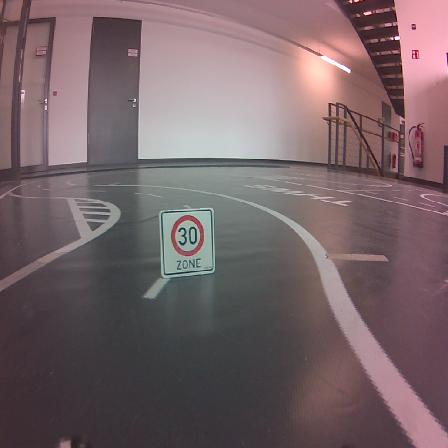30_ZONE_BEGIN: (160, 208, 217, 279)
